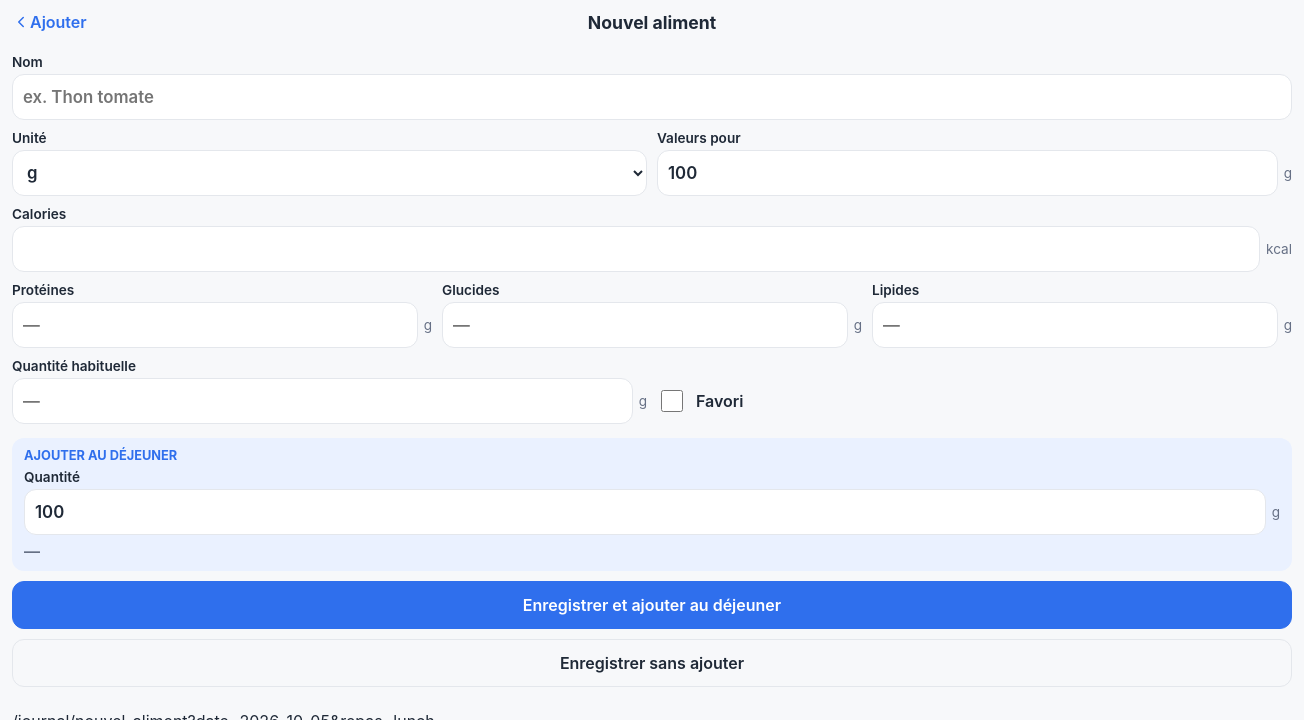
Test: parcours réel : Thon tomate › refus : message, rien d'écrit
This screenshot has width=1304, height=720.
expect the heading "Nouvel aliment" is shown: met, box [588,12,716,32]
Type "Barre" into the field labelled "Nom" at (652, 97), box [12,74,1292,120]
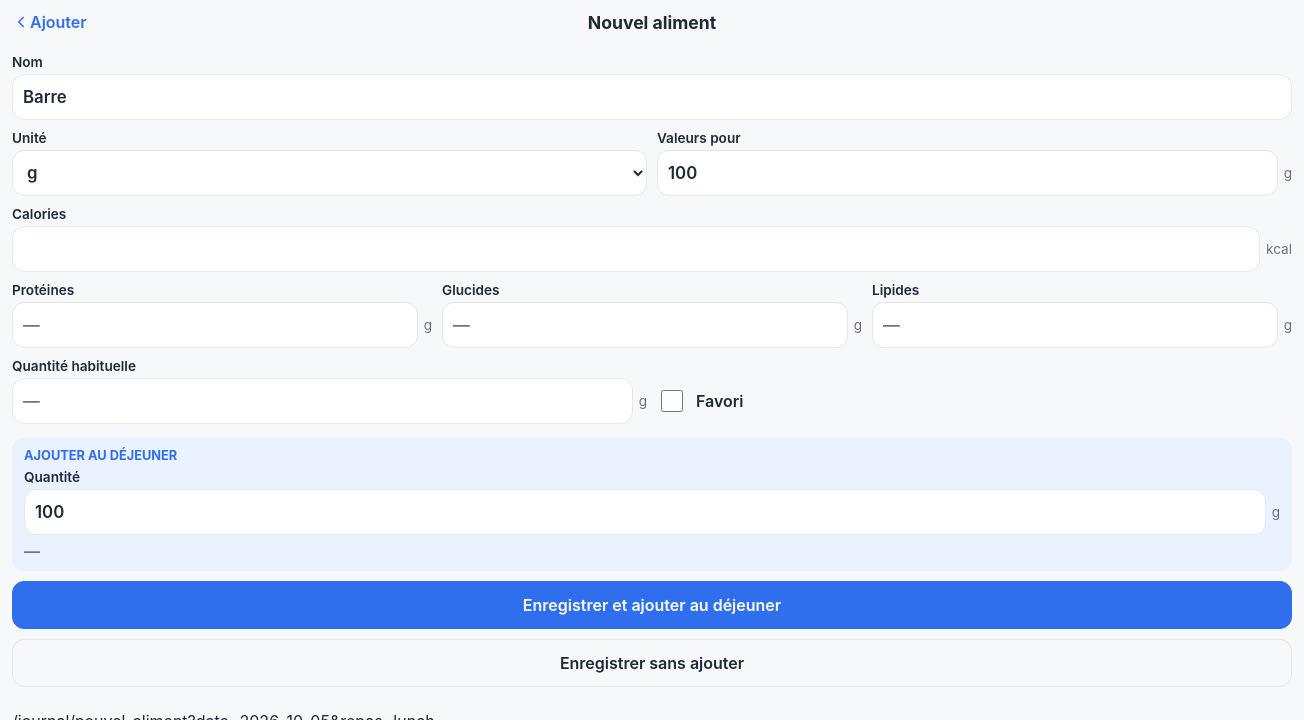
Click the button "Enregistrer et ajouter au déjeuner" at (652, 605), box [12,581,1292,629]
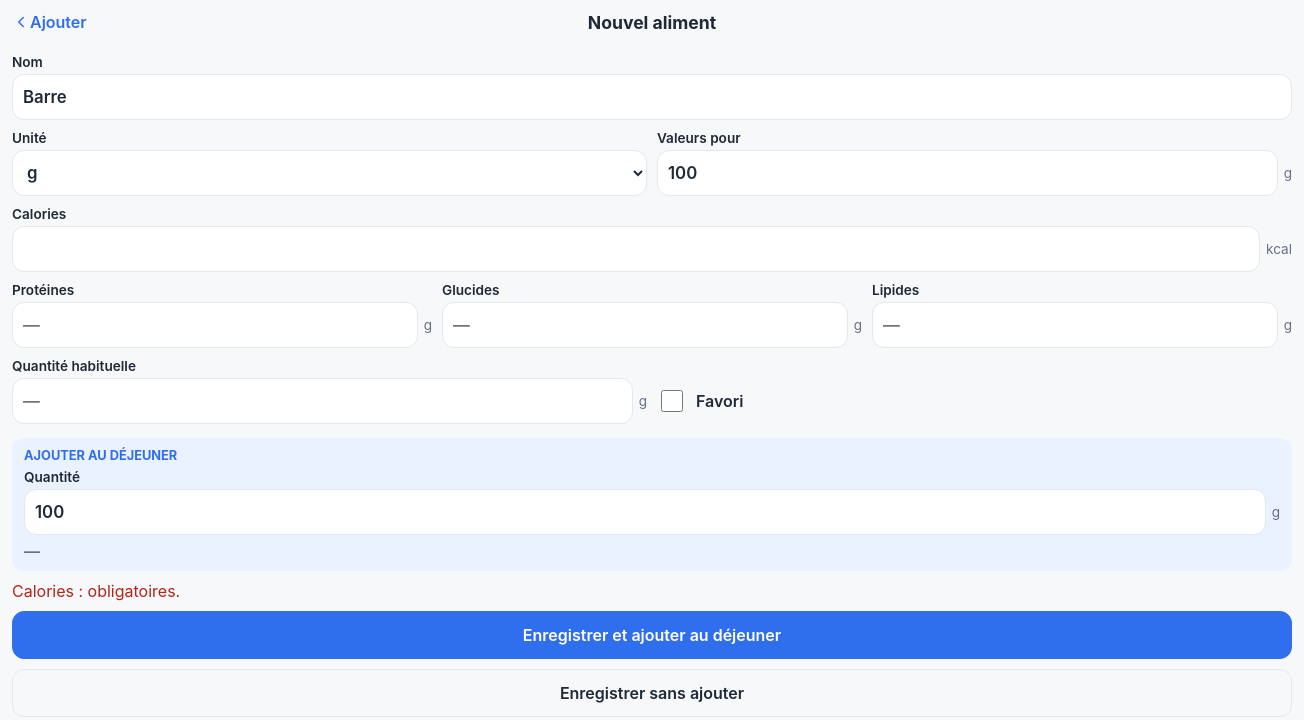
expect the message reads "Calories : obligatoires.": met, box [12,581,180,601]
